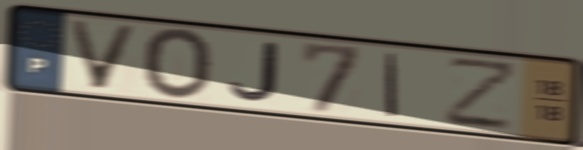7: (298, 38, 364, 117)
I: (383, 50, 401, 120)
J: (225, 40, 281, 104)
O: (140, 25, 217, 103)
V: (63, 17, 144, 93)
Z: (444, 57, 522, 133)
